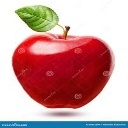apple: (11, 23, 115, 109)
